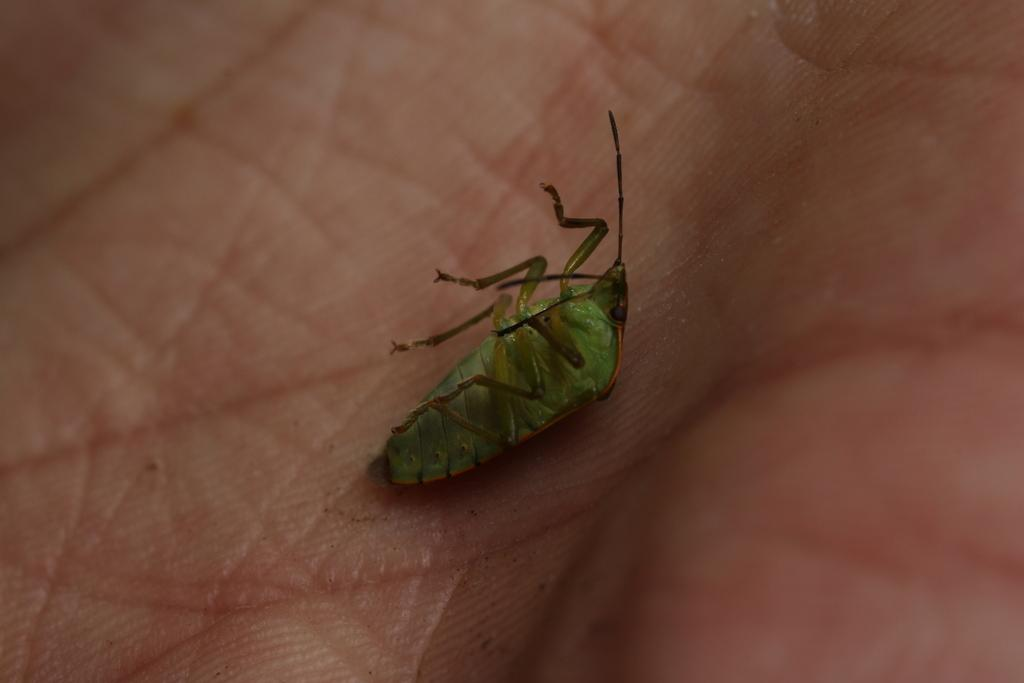stink_bugs: (295, 81, 723, 569)
